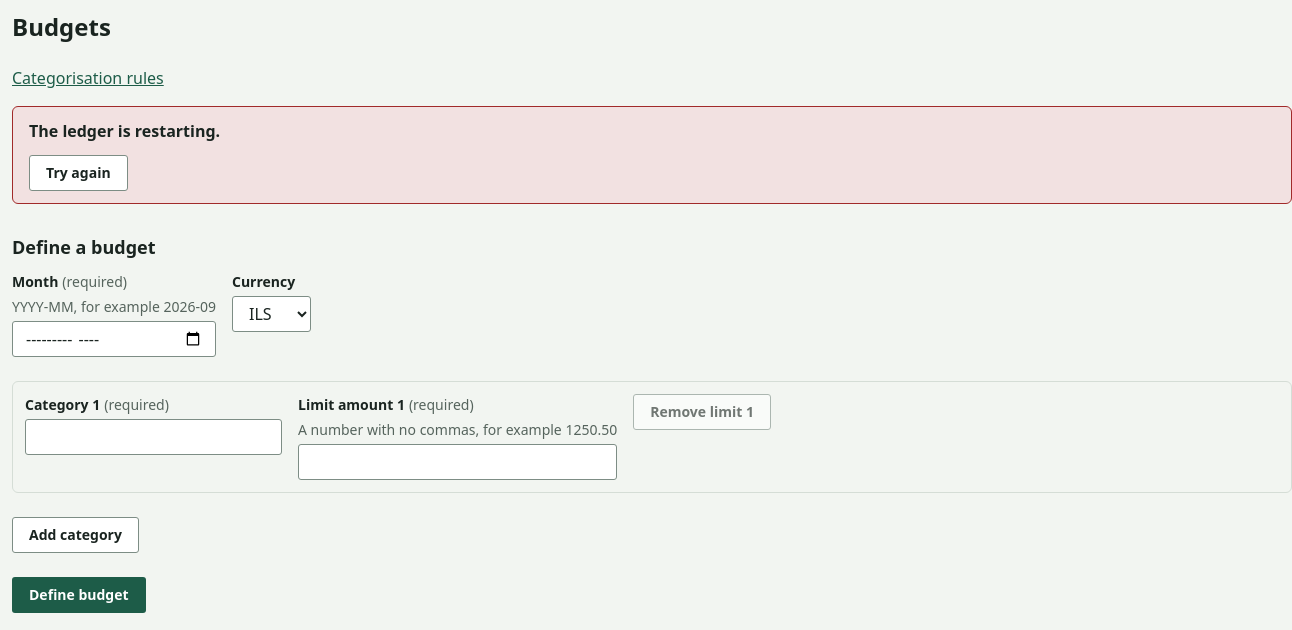
Scenario: BudgetsPage › Given_the_list_fails_When_the_page_renders_Then_an_error_state_offers_a_retry_that_refetches
The image size is (1292, 630).
Expected: the text "The ledger is restarting." is shown, [29,120,220,142]
Click the button "Try again" at (78, 173), box [29,155,128,191]
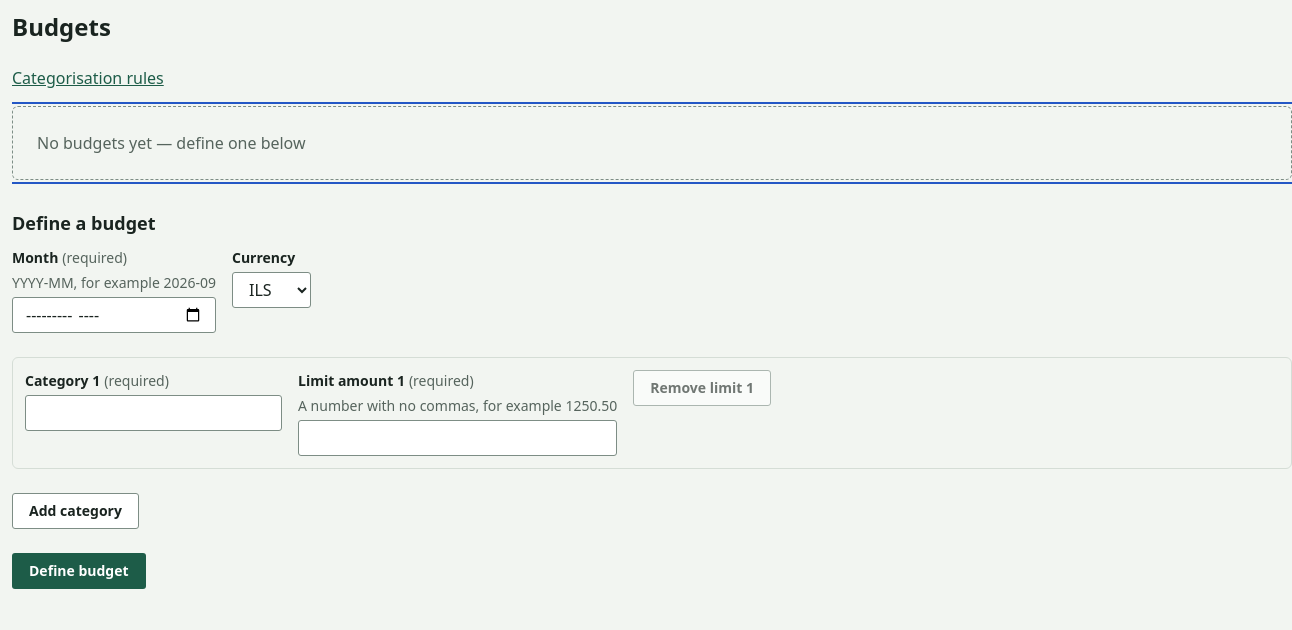
Expected: the text "No budgets yet — define one below" is shown, [37,131,306,155]
